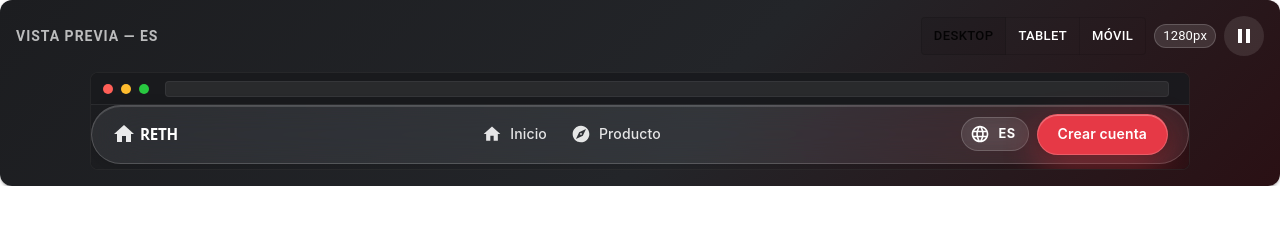
Scenario: NavbarResponsivePreview › switches resolution on tab click and updates badge
Step 1. Click the button "Móvil" → [1113, 36], box x1=1079 y1=17 x2=1146 y2=55
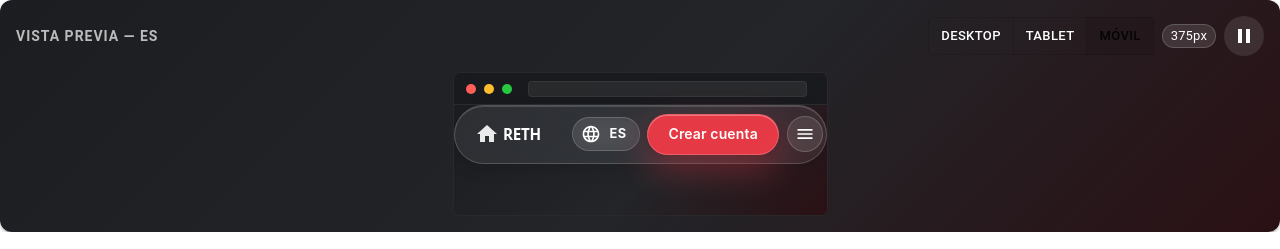
Check: the text "375px" is shown, box x1=1171 y1=28 x2=1207 y2=43
